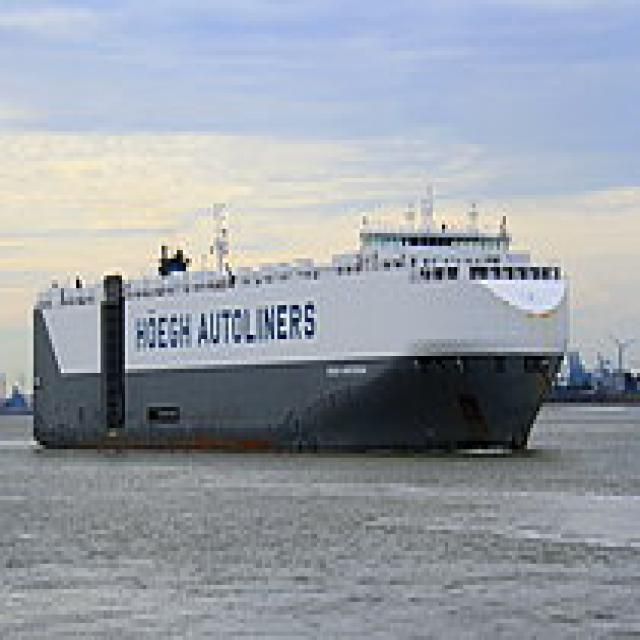Carrier: (24, 182, 570, 454)
